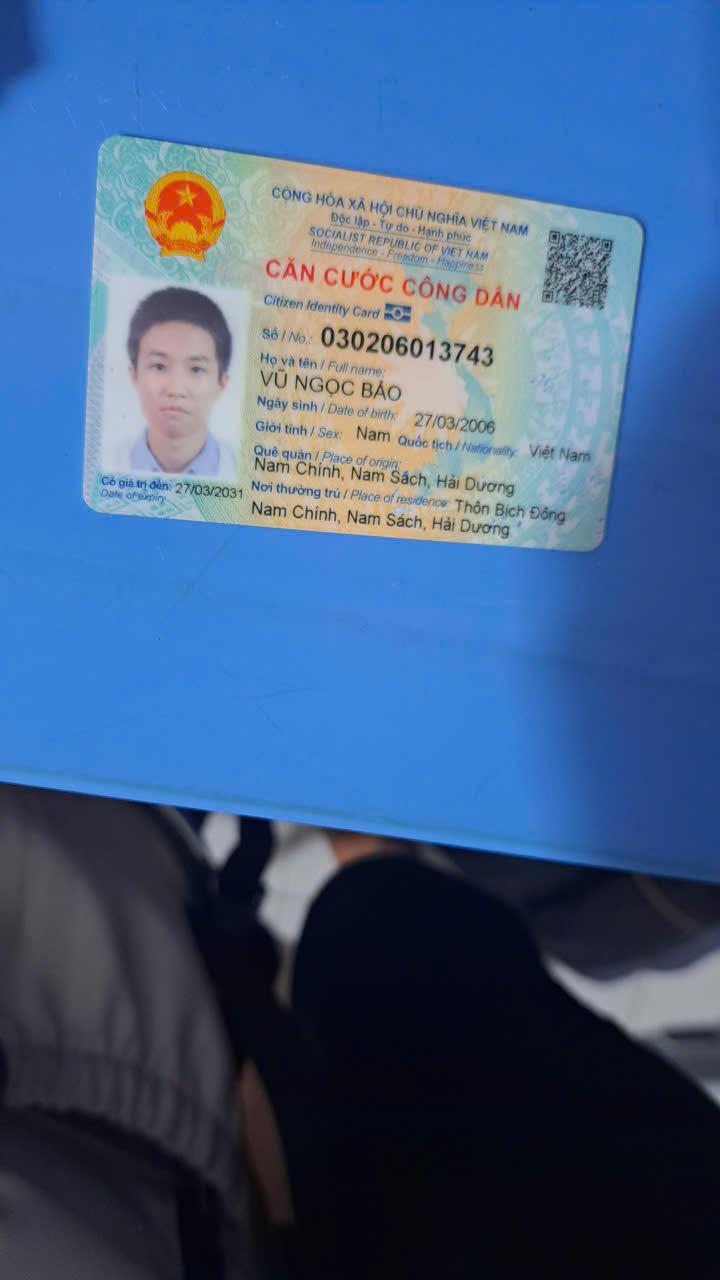cccd: (78, 123, 652, 562)
